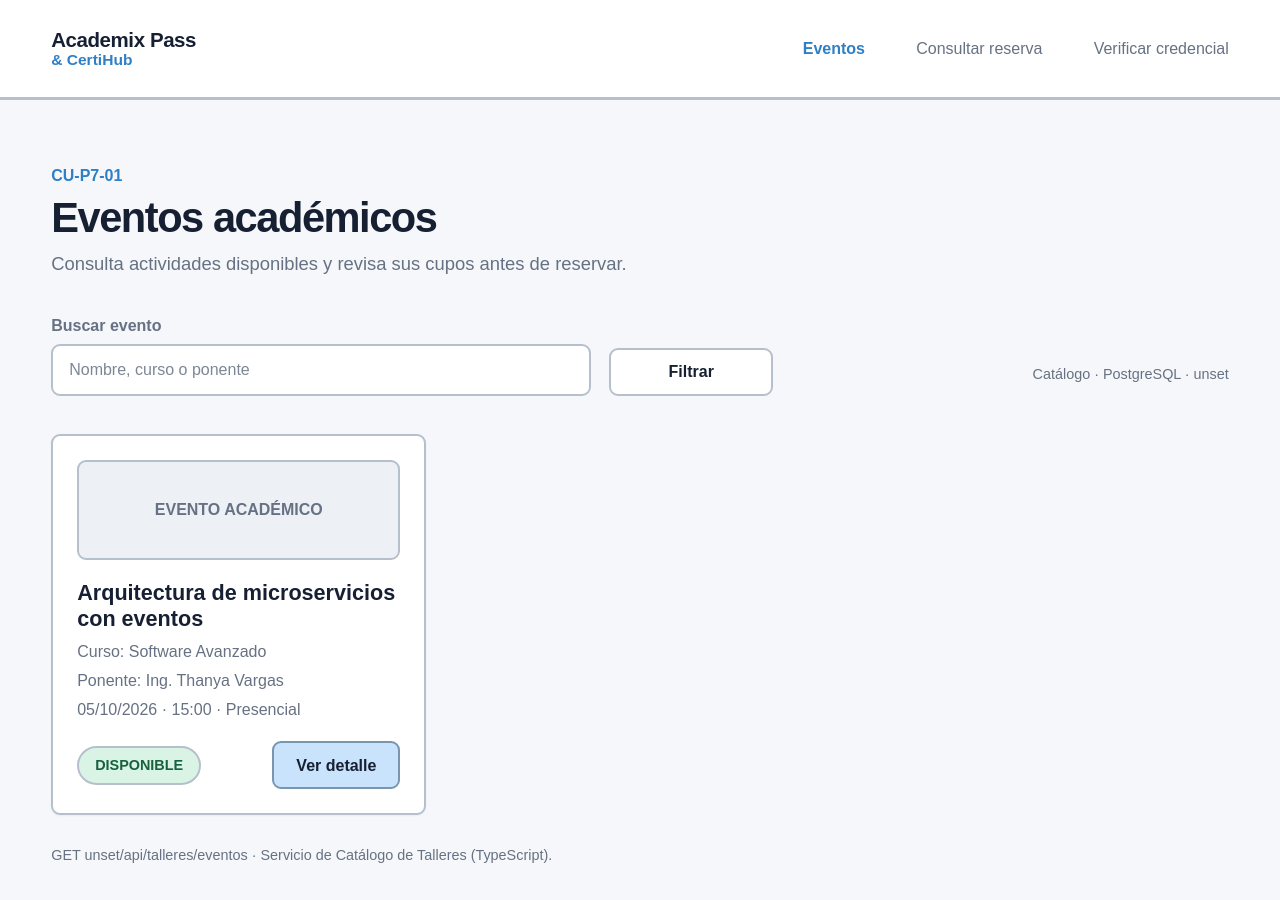
Test: Catálogo de eventos › muestra los eventos que devuelve el servicio y permite filtrar
Expected: the heading "Arquitectura de microservicios con eventos" is shown, [77, 580, 400, 632]
Type "inexistente" into the search field labelled "Buscar evento" at {"x": 321, "y": 370}, box [51, 344, 591, 396]
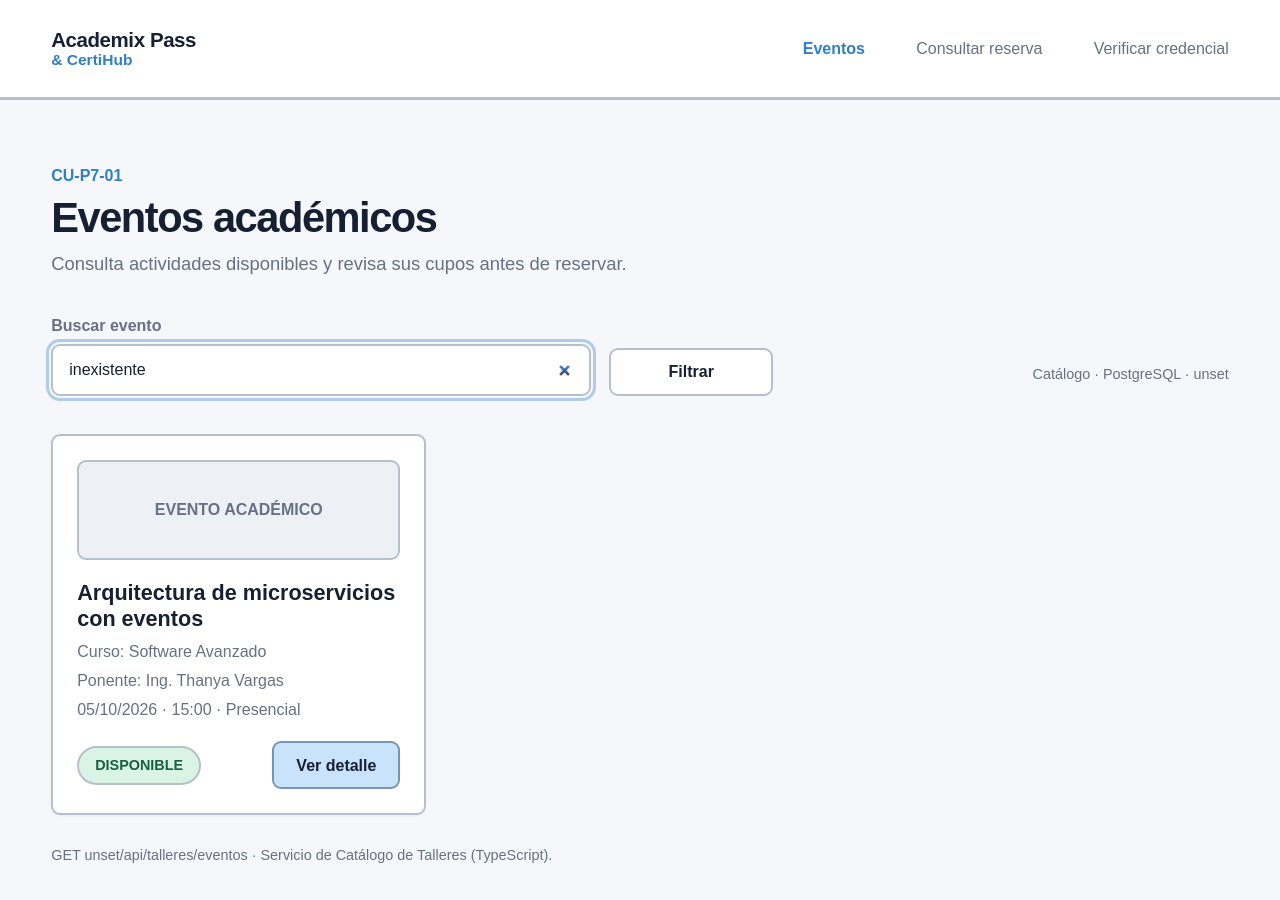
Click the button "Filtrar" at {"x": 691, "y": 372}, box [609, 348, 773, 396]
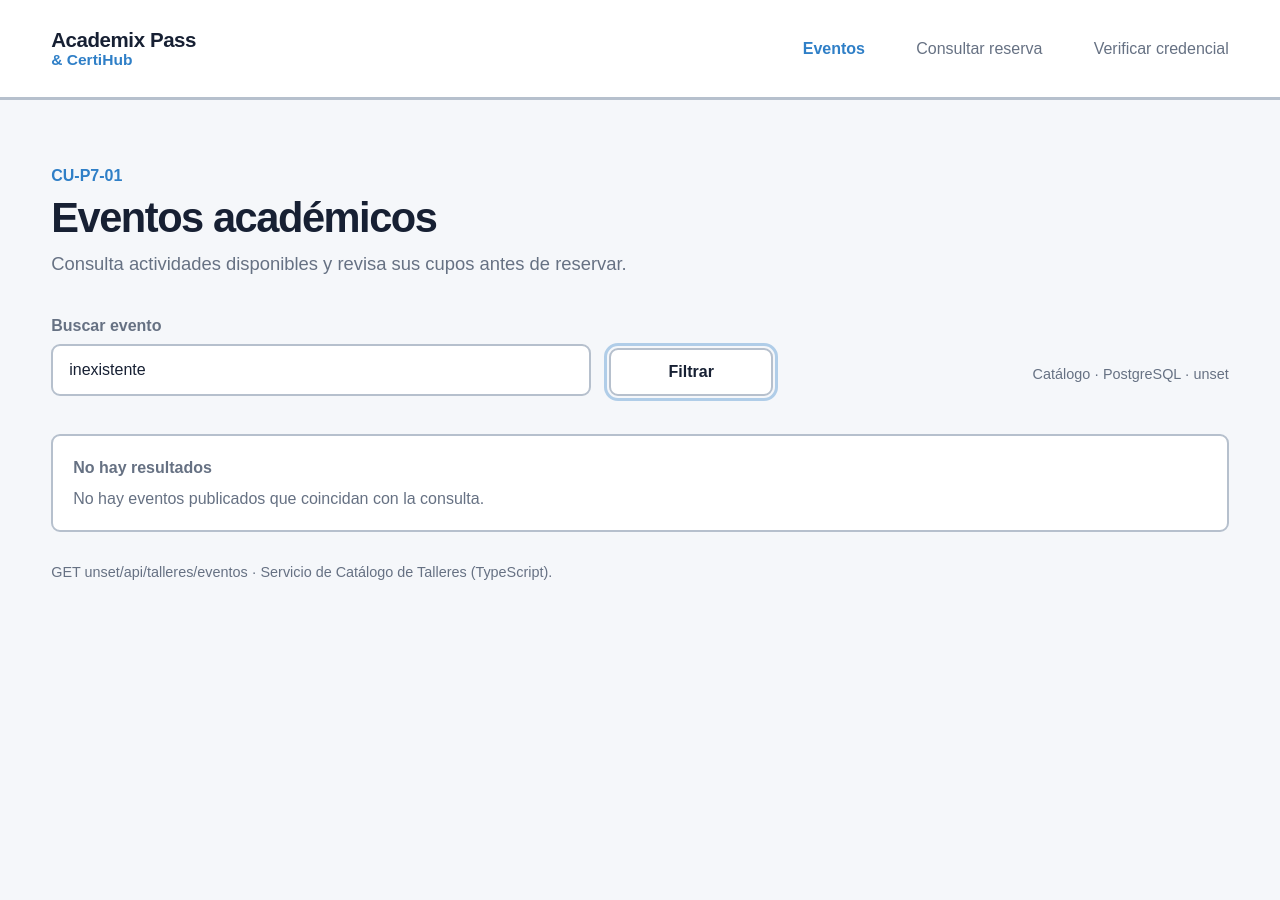
Expected: the text "No hay resultados" is shown, [73, 456, 212, 479]
